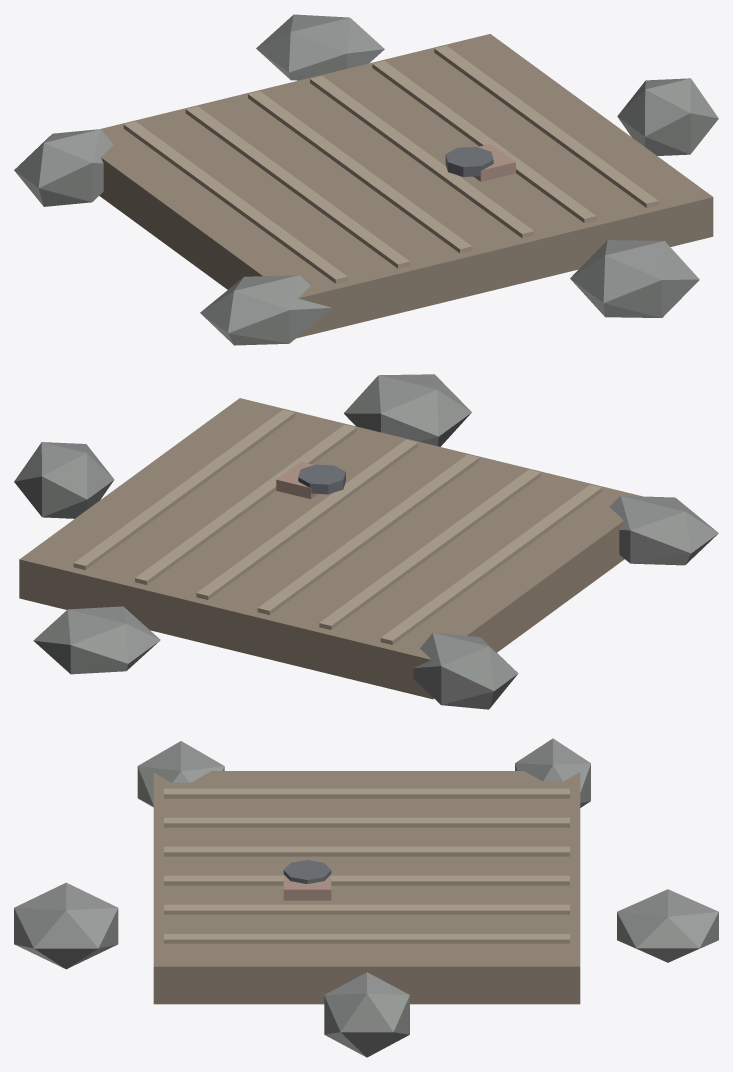
File: hidden_cellar_hatch.glb
The picture shows the model from 3 angles, top to bottom: view 1: azimuth 30°, elevation 25°; view 2: azimuth 150°, elevation 25°; view 3: azimuth 270°, elevation 25°; orthographic projection. The views are drawn at different scales.
Visible parts, largest first — view 1: hidden_cellar_hatch_material_00, hidden_cellar_hatch_material_04, hidden_cellar_hatch_material_01, hidden_cellar_hatch_material_03, hidden_cellar_hatch_material_02; view 2: hidden_cellar_hatch_material_00, hidden_cellar_hatch_material_04, hidden_cellar_hatch_material_01, hidden_cellar_hatch_material_03, hidden_cellar_hatch_material_02; view 3: hidden_cellar_hatch_material_00, hidden_cellar_hatch_material_01, hidden_cellar_hatch_material_04, hidden_cellar_hatch_material_02, hidden_cellar_hatch_material_03.
Part boxes in pixels (x1,y1,x2,y2): hidden_cellar_hatch_material_00: (99,34,713,338); hidden_cellar_hatch_material_04: (14,14,718,345); hidden_cellar_hatch_material_01: (123,45,658,283); hidden_cellar_hatch_material_03: (445,146,493,176); hidden_cellar_hatch_material_02: (473,144,515,181); hidden_cellar_hatch_material_00: (19,398,641,699); hidden_cellar_hatch_material_04: (14,374,718,709); hidden_cellar_hatch_material_01: (73,409,602,644); hidden_cellar_hatch_material_03: (298,464,345,494); hidden_cellar_hatch_material_02: (276,461,317,499); hidden_cellar_hatch_material_00: (153,771,580,1004); hidden_cellar_hatch_material_01: (164,788,569,943); hidden_cellar_hatch_material_04: (14,738,718,1057); hidden_cellar_hatch_material_02: (283,874,331,900); hidden_cellar_hatch_material_03: (283,860,331,883).
Size of the model in its own units: 2.18 by 0.2581 by 2.36.
